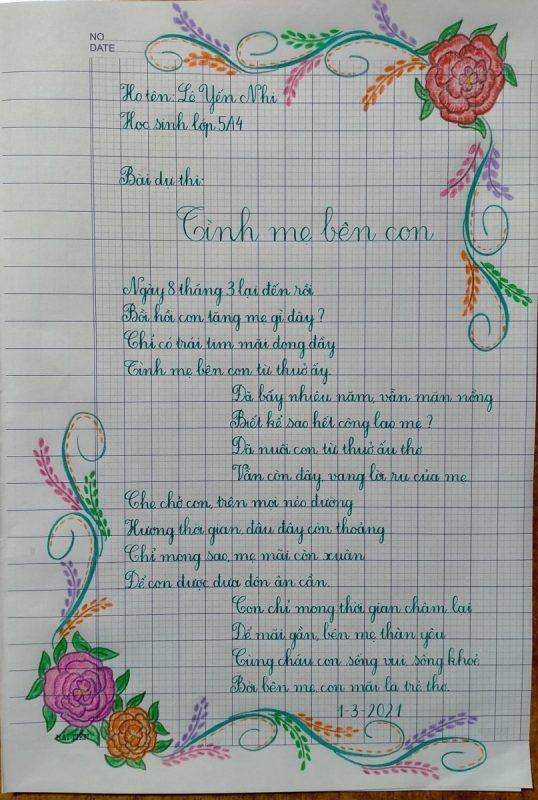text: (174, 201, 434, 247), (124, 516, 387, 548), (232, 645, 482, 678), (229, 382, 497, 412), (231, 593, 475, 625), (119, 299, 329, 336), (230, 461, 468, 493), (122, 542, 367, 573), (229, 619, 448, 652), (123, 488, 355, 519), (121, 354, 332, 388), (228, 407, 435, 441), (121, 273, 316, 309), (120, 329, 339, 360), (117, 79, 280, 116), (122, 568, 329, 594), (228, 672, 451, 695), (230, 433, 424, 459), (120, 108, 246, 143), (116, 162, 203, 191), (336, 701, 404, 722), (87, 41, 118, 52), (89, 29, 106, 44)
